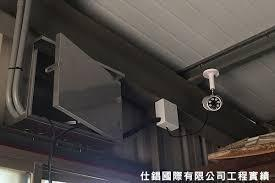Monitor: (198, 66, 240, 129)
